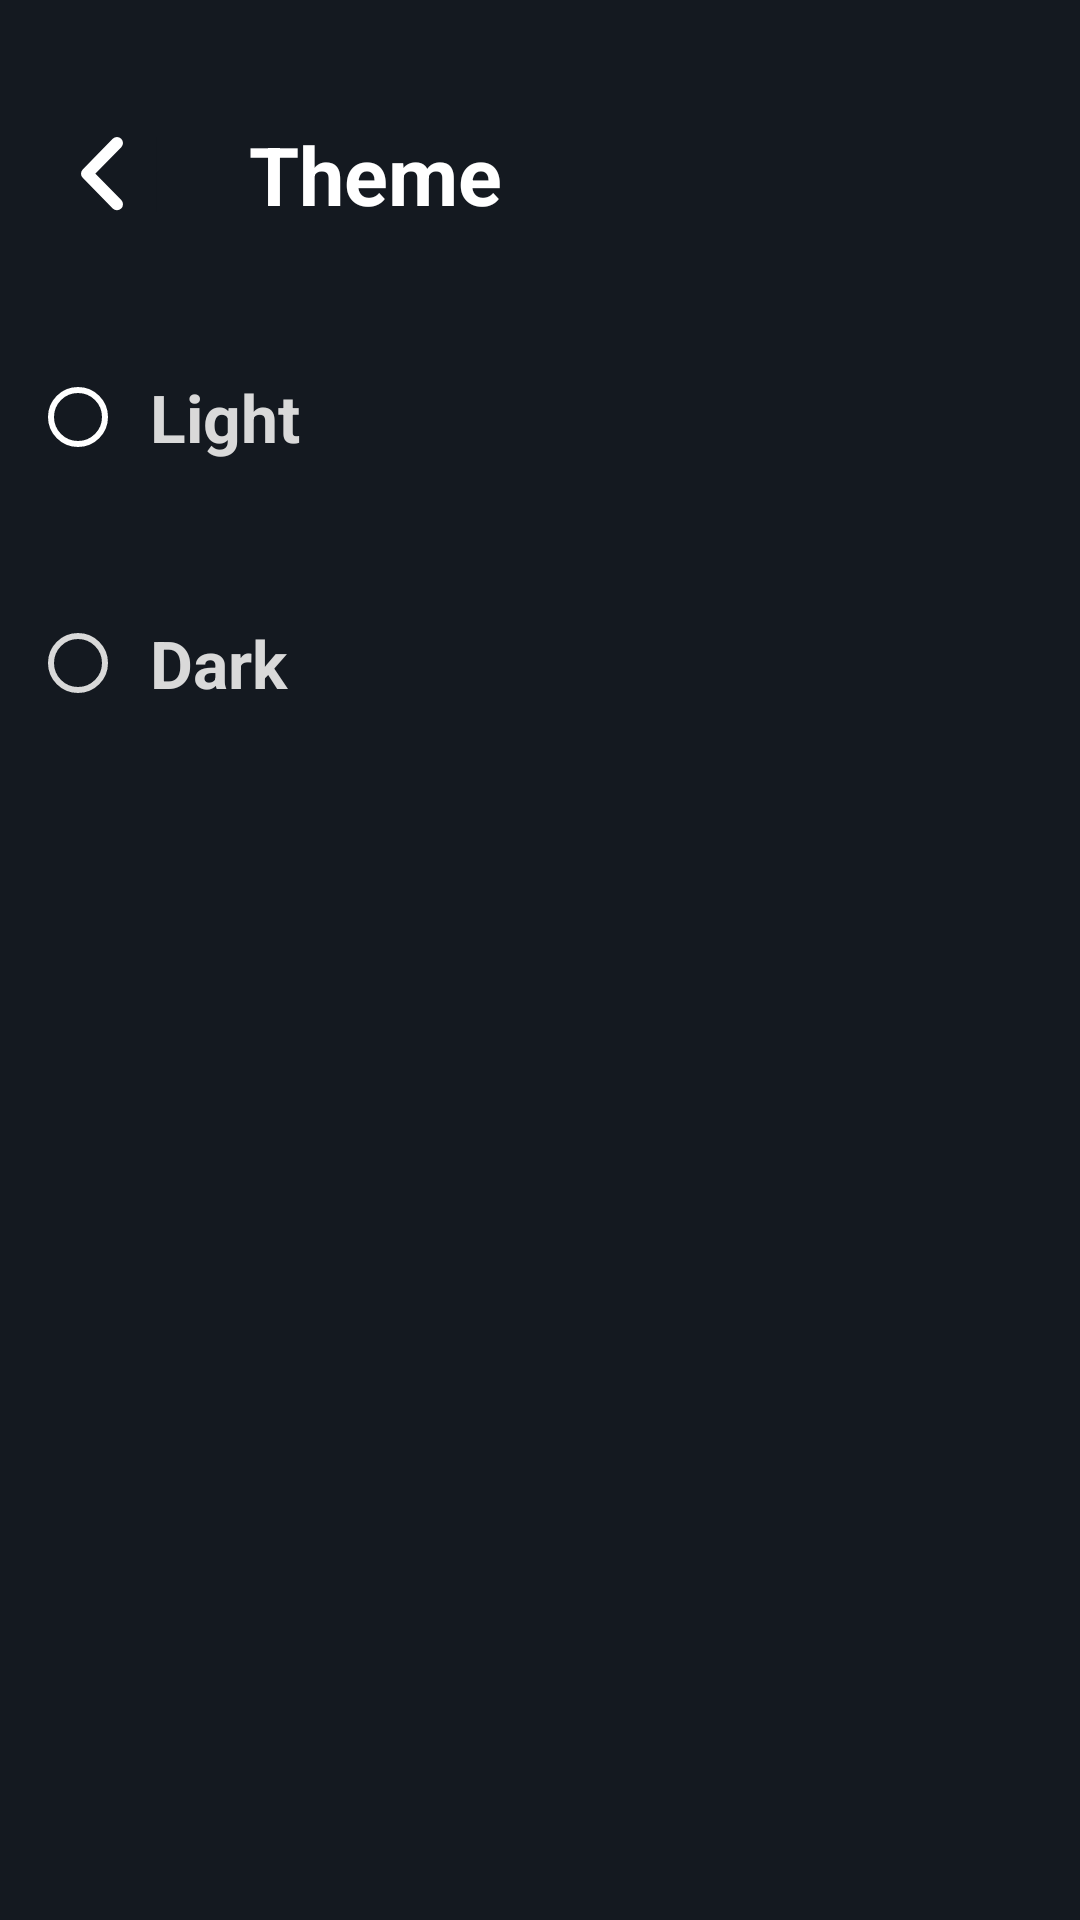

Named icons in this screenshot (1080 × 1920) and their bounding boxes, region(x1, y1, x2, y2):
back: region(81, 137, 123, 211)
